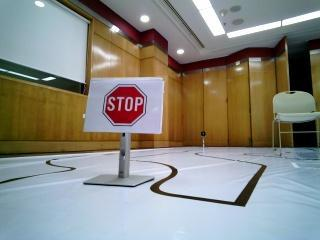stop: (89, 80, 159, 133)
